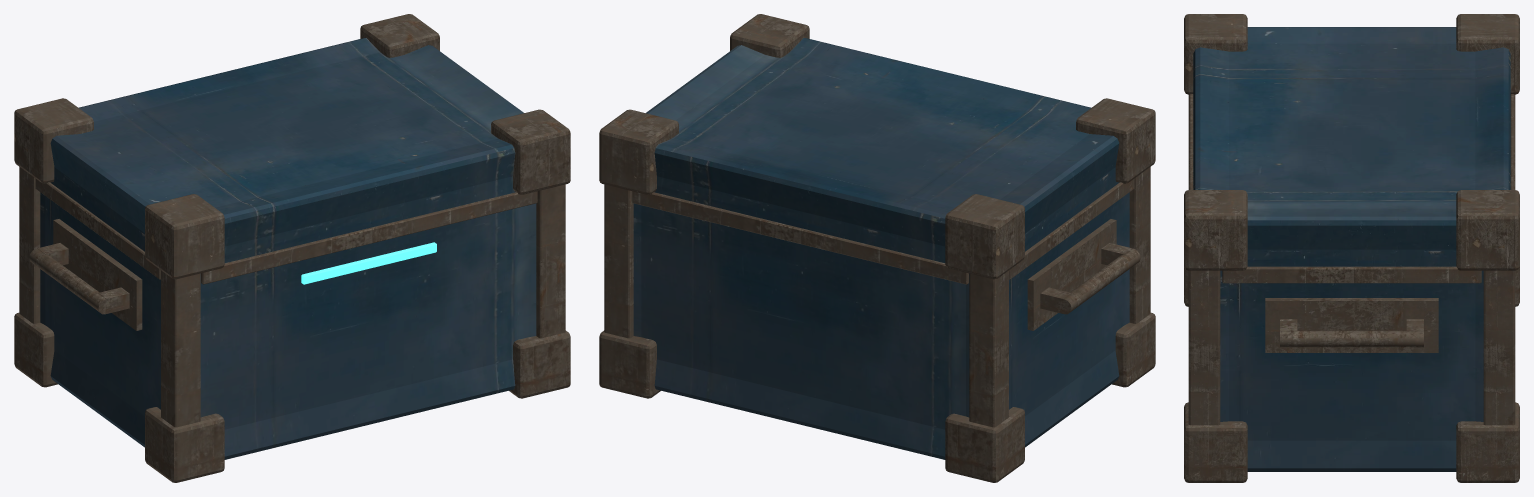
The model's file is sci-fi-supply-crate_final.glb.
The picture shows the model from 3 angles, left to right: view 1: azimuth 30°, elevation 25°; view 2: azimuth 150°, elevation 25°; view 3: azimuth 270°, elevation 25°; orthographic projection. The views are drawn at different scales.
Visible parts, largest first — view 1: SM_SciFiCrate, SM_SciFiCrate_CornerCaps, SM_SciFiCrate_CornerRails, SM_SciFiCrate_Band, SM_SciFiCrate_Handles, SM_SciFiCrate_StatusLight; view 2: SM_SciFiCrate, SM_SciFiCrate_CornerCaps, SM_SciFiCrate_CornerRails, SM_SciFiCrate_Band, SM_SciFiCrate_Handles; view 3: SM_SciFiCrate, SM_SciFiCrate_CornerCaps, SM_SciFiCrate_CornerRails, SM_SciFiCrate_Handles, SM_SciFiCrate_Band.
Boxes of the visible parts, bbox=[...] form: SM_SciFiCrate: bbox=[40, 38, 536, 459]; SM_SciFiCrate_CornerCaps: bbox=[14, 14, 570, 482]; SM_SciFiCrate_CornerRails: bbox=[19, 167, 565, 427]; SM_SciFiCrate_Band: bbox=[35, 179, 537, 284]; SM_SciFiCrate_Handles: bbox=[29, 219, 142, 330]; SM_SciFiCrate_StatusLight: bbox=[301, 242, 436, 284]; SM_SciFiCrate: bbox=[633, 38, 1129, 459]; SM_SciFiCrate_CornerCaps: bbox=[599, 14, 1155, 482]; SM_SciFiCrate_CornerRails: bbox=[604, 167, 1150, 427]; SM_SciFiCrate_Band: bbox=[632, 179, 1134, 284]; SM_SciFiCrate_Handles: bbox=[1027, 219, 1140, 330]; SM_SciFiCrate: bbox=[1193, 27, 1510, 471]; SM_SciFiCrate_CornerCaps: bbox=[1184, 14, 1519, 482]; SM_SciFiCrate_CornerRails: bbox=[1188, 95, 1515, 425]; SM_SciFiCrate_Handles: bbox=[1265, 298, 1438, 352]; SM_SciFiCrate_Band: bbox=[1189, 94, 1514, 283].
Bounding box in the file's own units: 0.954 × 0.516 × 0.582.
Materials: 3 (2 with a texture image).
